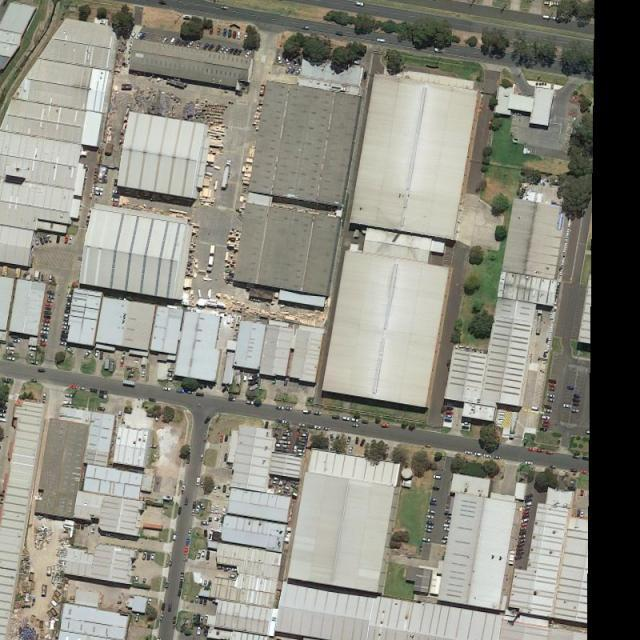vehicle: (308, 424, 322, 430), (187, 41, 195, 49), (174, 37, 181, 46), (246, 399, 255, 406), (64, 234, 70, 244), (68, 236, 74, 246), (30, 360, 40, 366), (119, 358, 125, 368), (68, 384, 78, 390), (175, 387, 185, 393), (460, 424, 470, 430), (214, 44, 221, 52), (245, 50, 252, 58), (539, 427, 550, 432), (136, 31, 142, 40), (208, 26, 214, 35), (29, 346, 38, 352), (90, 525, 96, 534), (187, 528, 193, 537), (184, 546, 190, 555), (562, 402, 571, 408), (216, 27, 221, 37), (223, 27, 228, 37), (236, 30, 241, 40), (62, 400, 72, 405), (134, 614, 139, 624), (196, 476, 201, 486), (162, 496, 172, 501), (200, 521, 210, 526), (168, 602, 173, 612), (535, 448, 545, 453), (162, 36, 169, 43), (202, 43, 209, 50), (224, 47, 231, 54), (233, 49, 240, 56), (290, 67, 297, 74), (203, 416, 210, 423), (179, 38, 185, 46), (220, 46, 226, 54), (302, 24, 310, 30), (48, 274, 54, 282), (84, 350, 90, 358), (225, 566, 233, 572), (342, 415, 350, 421), (227, 29, 232, 38), (232, 29, 237, 38), (94, 191, 103, 196), (30, 377, 39, 382), (98, 406, 107, 411), (219, 434, 224, 443), (222, 485, 227, 494), (184, 497, 189, 506), (195, 505, 200, 514), (201, 549, 206, 558), (173, 533, 178, 542), (196, 627, 201, 636), (302, 409, 311, 414), (349, 445, 354, 454), (424, 443, 433, 448), (464, 450, 473, 455), (546, 393, 555, 398), (433, 474, 442, 479), (425, 528, 434, 533), (580, 509, 585, 518), (525, 461, 534, 466), (98, 390, 109, 394), (140, 32, 146, 39), (184, 39, 190, 46), (208, 44, 215, 50), (228, 47, 234, 54), (296, 67, 302, 74), (178, 581, 184, 588), (352, 422, 359, 428), (286, 58, 291, 66), (355, 2, 365, 6), (376, 38, 386, 42), (94, 186, 102, 191), (112, 190, 122, 194), (111, 197, 119, 202), (47, 234, 52, 242), (44, 310, 52, 315), (42, 318, 50, 323), (38, 368, 46, 373), (90, 388, 98, 393), (186, 390, 194, 395), (148, 598, 153, 606), (178, 506, 182, 516), (191, 508, 196, 516), (201, 500, 205, 510), (214, 484, 218, 494), (214, 506, 219, 514), (185, 538, 190, 546), (178, 589, 183, 597), (200, 614, 205, 622), (277, 405, 285, 410), (298, 422, 306, 427), (322, 426, 330, 431), (332, 414, 340, 419), (346, 436, 351, 444), (444, 414, 454, 418), (474, 452, 482, 457), (571, 398, 581, 402), (571, 409, 579, 414), (430, 497, 438, 502), (426, 514, 434, 519), (426, 520, 434, 525), (422, 538, 432, 542), (546, 449, 554, 454), (522, 513, 530, 518), (518, 534, 526, 539), (516, 547, 524, 552), (516, 550, 524, 555), (514, 556, 524, 560), (278, 55, 282, 64), (57, 234, 61, 243), (46, 290, 55, 294), (12, 338, 21, 342), (7, 356, 16, 360), (68, 348, 74, 354), (142, 369, 146, 378), (182, 485, 186, 494), (180, 571, 184, 580), (194, 595, 198, 604), (193, 613, 197, 622), (445, 410, 454, 414), (493, 455, 502, 459), (547, 379, 556, 383), (566, 386, 575, 390), (572, 402, 581, 406), (541, 415, 550, 419), (426, 510, 435, 514), (517, 543, 526, 547), (130, 31, 135, 38), (169, 37, 174, 44), (203, 579, 208, 586), (286, 406, 293, 411), (382, 422, 389, 427), (522, 518, 529, 523), (286, 66, 290, 74), (110, 202, 118, 206), (46, 298, 54, 302), (44, 316, 52, 320), (42, 322, 50, 326), (42, 326, 50, 330), (40, 334, 48, 338), (40, 338, 48, 342), (38, 342, 46, 346), (6, 346, 14, 350), (66, 394, 74, 398), (78, 386, 86, 390), (118, 410, 122, 418), (162, 386, 170, 390), (166, 373, 174, 377), (142, 552, 146, 560), (134, 575, 138, 583), (166, 580, 170, 588), (203, 598, 207, 606), (314, 411, 322, 415), (446, 402, 454, 406), (446, 406, 454, 410), (483, 454, 491, 458), (546, 398, 554, 402), (574, 394, 582, 398), (545, 409, 553, 413), (526, 494, 534, 498), (221, 6, 228, 10), (238, 49, 242, 56), (43, 236, 47, 243), (45, 306, 52, 310), (41, 330, 48, 334), (59, 342, 66, 346), (151, 554, 155, 561), (200, 453, 204, 460), (228, 574, 235, 578), (162, 603, 166, 610), (160, 614, 164, 621), (548, 383, 555, 387), (430, 502, 437, 506), (527, 447, 534, 451), (550, 464, 557, 468), (570, 468, 577, 472), (523, 506, 530, 510), (519, 526, 526, 530), (519, 530, 526, 534), (518, 539, 525, 543), (198, 550, 201, 559), (204, 614, 207, 623), (350, 418, 359, 421), (1, 413, 6, 418), (48, 295, 54, 299), (46, 302, 52, 306), (6, 351, 14, 354), (95, 350, 98, 358), (100, 351, 103, 359), (218, 566, 224, 570), (549, 387, 555, 391), (426, 525, 434, 528), (581, 470, 587, 474), (199, 598, 202, 605), (523, 511, 529, 514), (522, 523, 528, 526)
